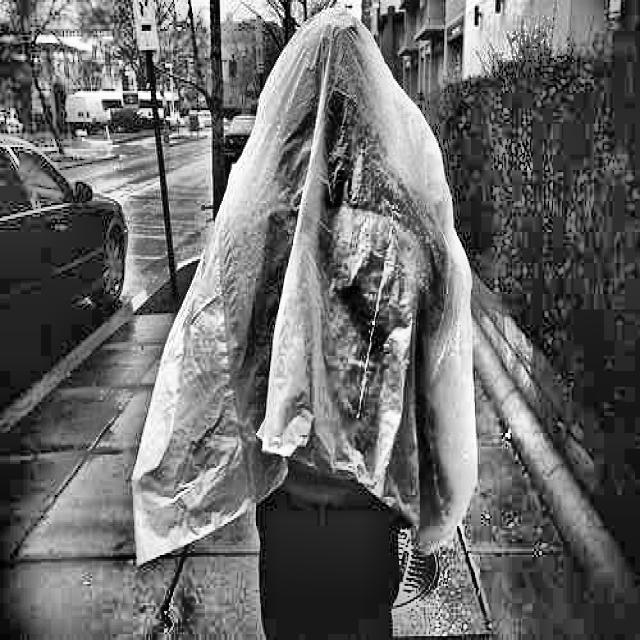Plastic: (139, 11, 478, 591)
